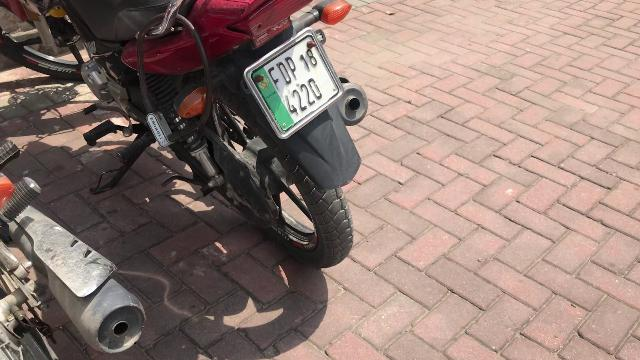plate: (247, 28, 343, 135)
